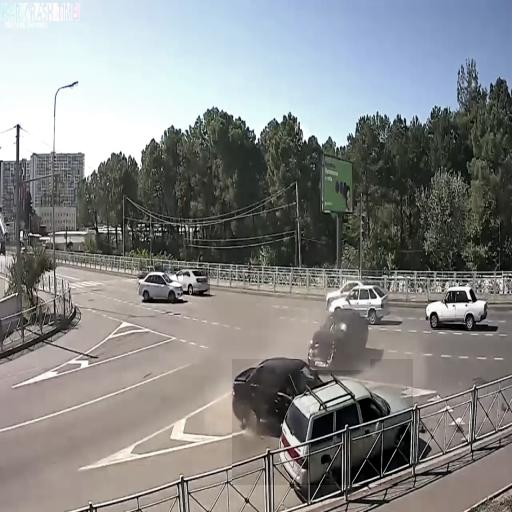小汽车: (310, 309, 370, 370), (428, 286, 488, 330), (328, 282, 390, 322), (137, 272, 183, 302), (174, 268, 210, 295)
小汽车撞小汽车: (232, 360, 413, 486)
